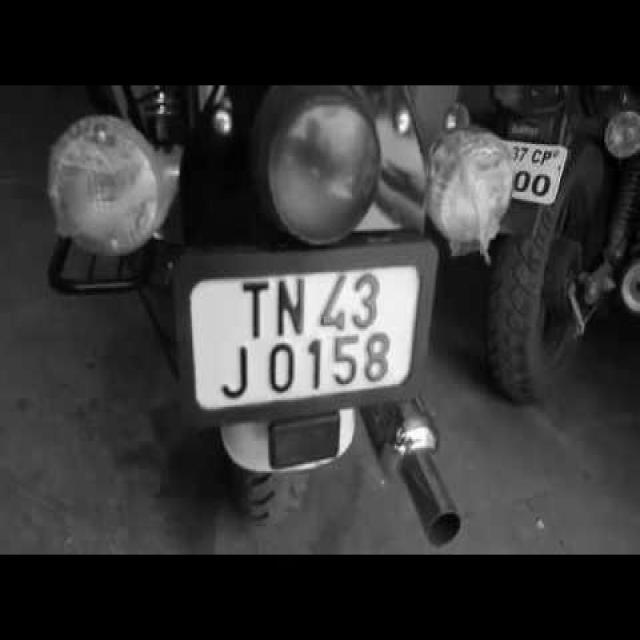license-plate: (198, 259, 422, 402)
